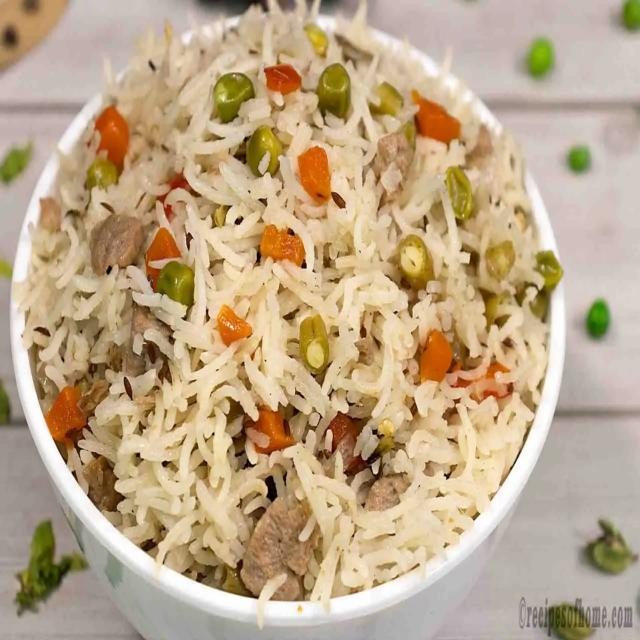veg palav: (4, 0, 565, 640)
